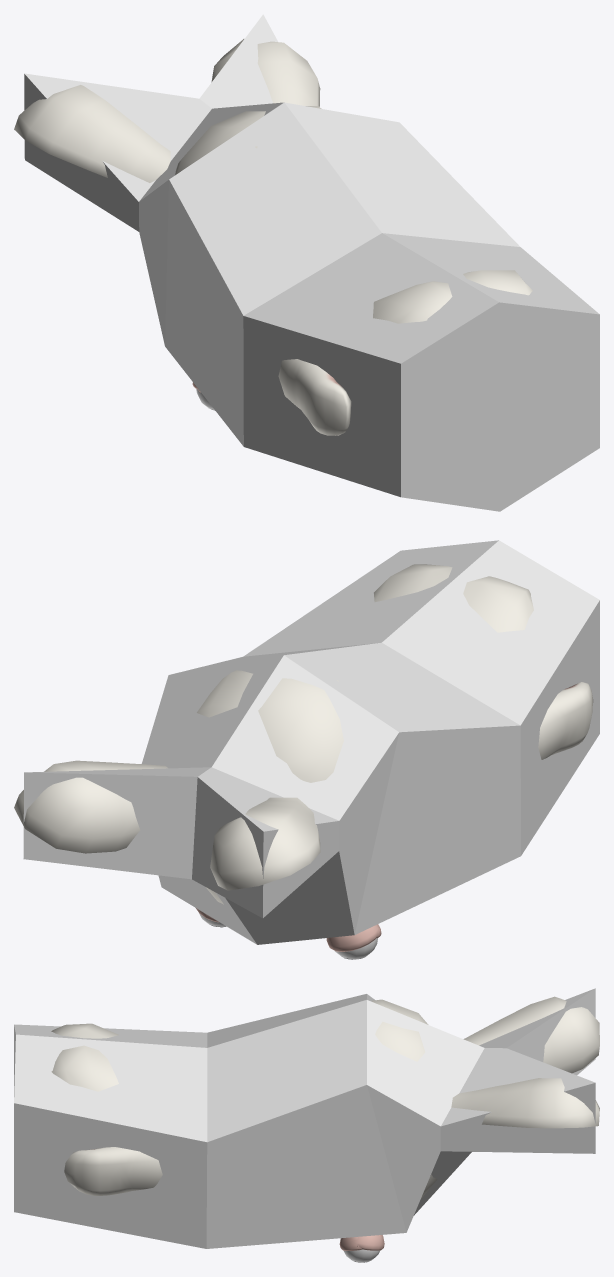
Rendered from Rabbid_Gen_Rest_Neutral.fbx.
3 renders of one model, top to bottom at view 1: azimuth 30°, elevation 25°; view 2: azimuth 150°, elevation 25°; view 3: azimuth 270°, elevation 25°, orthographic. The views are drawn at different scales.
Visible parts, largest first — view 1: c_Rabbid_Gen_Rest_Neutral, Rabbid_Gen_Rest_Neutral; view 2: c_Rabbid_Gen_Rest_Neutral, Rabbid_Gen_Rest_Neutral; view 3: c_Rabbid_Gen_Rest_Neutral, Rabbid_Gen_Rest_Neutral.
Part boxes in pixels (x1=…): c_Rabbid_Gen_Rest_Neutral: x1=24, y1=14, x2=599, y2=511; Rabbid_Gen_Rest_Neutral: x1=14, y1=39, x2=532, y2=435; c_Rabbid_Gen_Rest_Neutral: x1=23, y1=540, x2=599, y2=944; Rabbid_Gen_Rest_Neutral: x1=14, y1=564, x2=593, y2=959; c_Rabbid_Gen_Rest_Neutral: x1=14, y1=988, x2=595, y2=1248; Rabbid_Gen_Rest_Neutral: x1=51, y1=996, x2=599, y2=1262.
Bounding box in the file's own units: 30.39 × 30.01 × 66.42.
